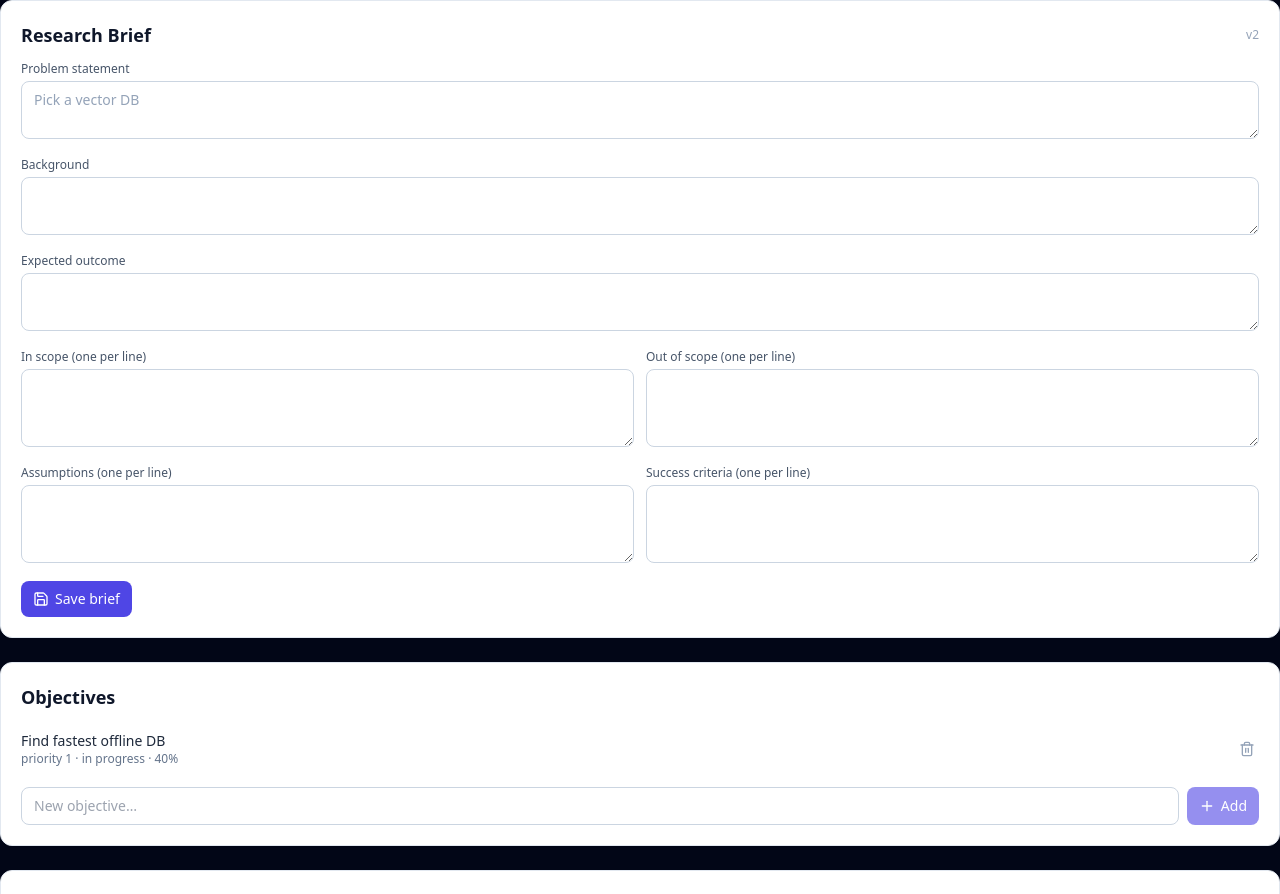
BriefPanel › adds an objective
Check: the text "Find fastest offline DB" is shown, box [21,731,165,750]
In the field with placeholder "New objective…": point(600, 806) [21,787,1179,825], type "New obj"
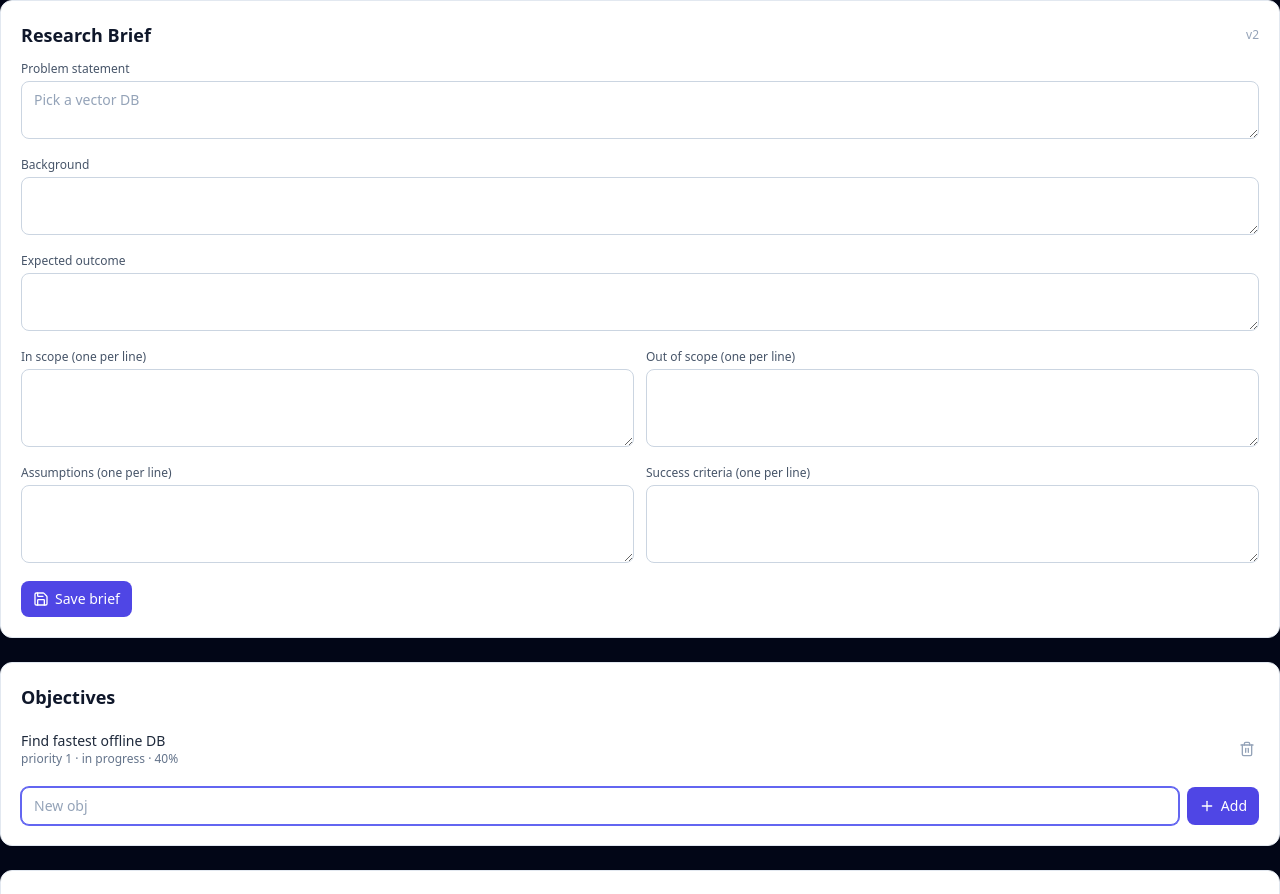
Click the button "Add": point(1223, 806) [1187,787,1259,825]
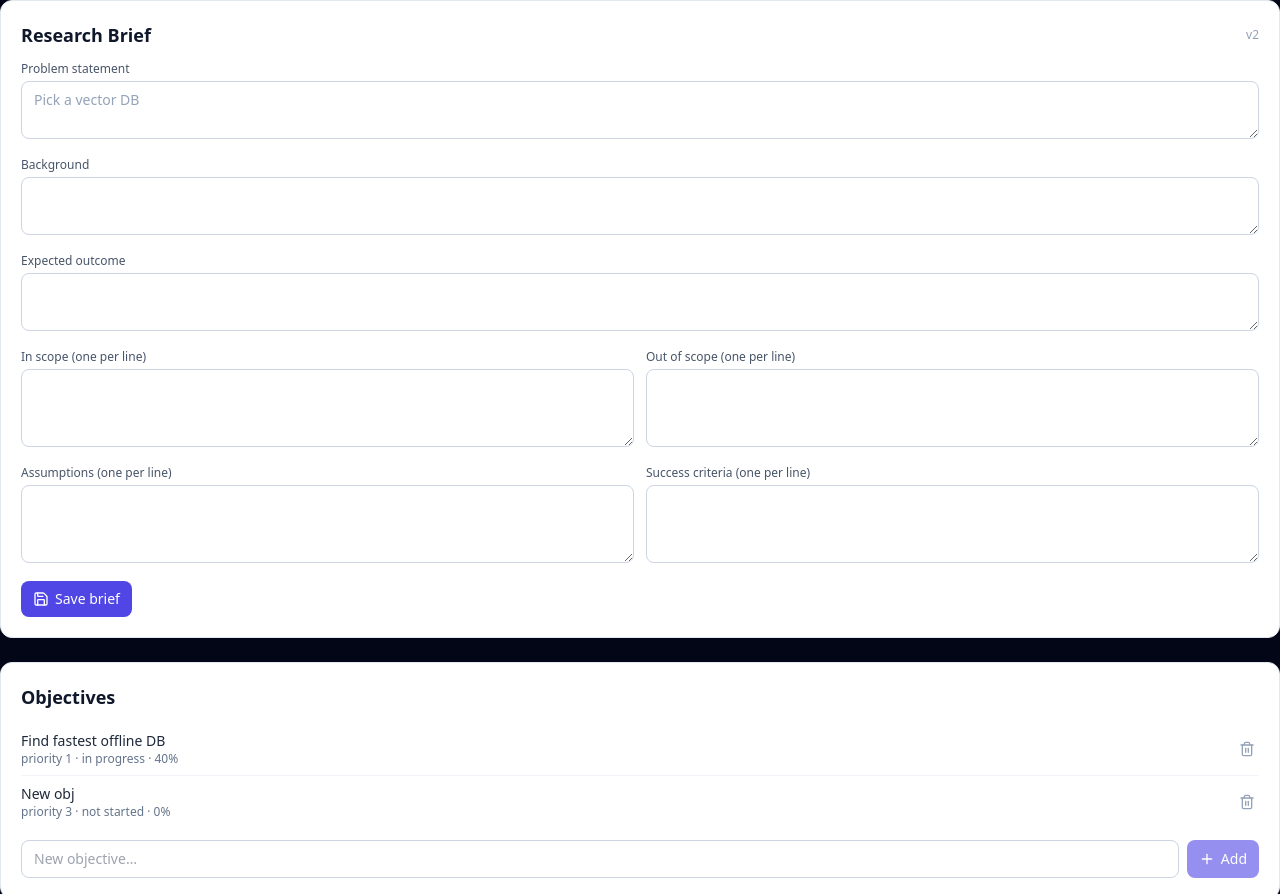
Check: the text "New obj" is shown, box [21,784,75,803]
